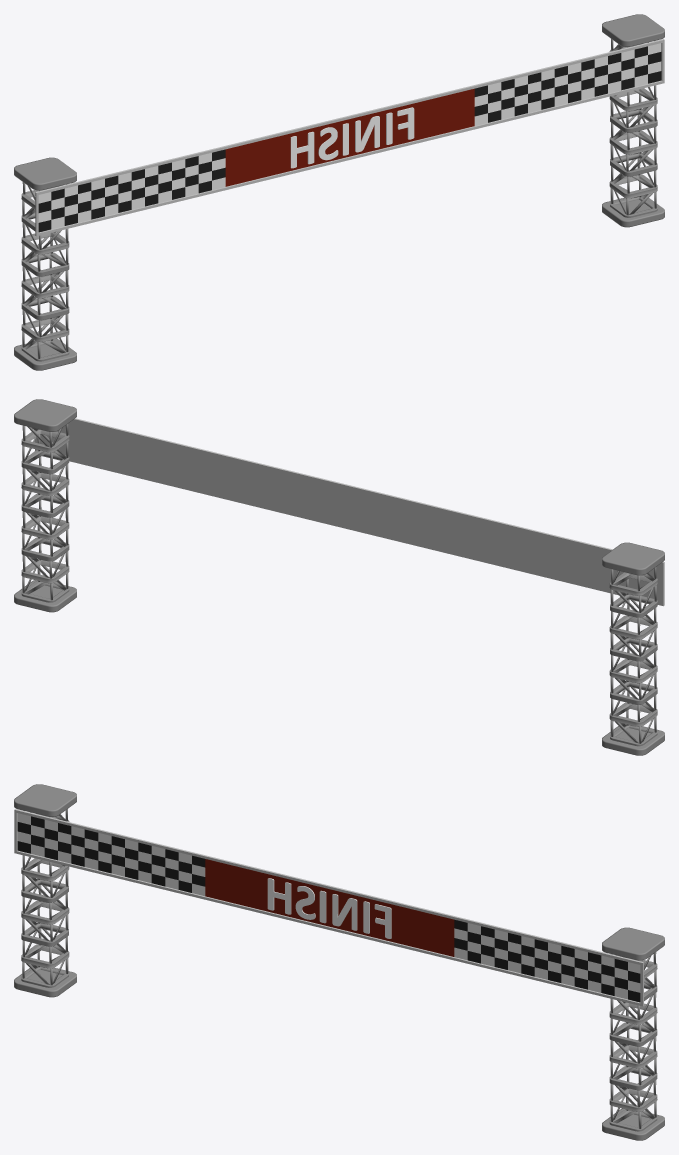
Rendered from finish_line.glb.
The picture shows the model from 3 angles, top to bottom: view 1: azimuth 30°, elevation 25°; view 2: azimuth 150°, elevation 25°; view 3: azimuth 330°, elevation 25°; orthographic projection.
Visible parts, largest first — view 1: Board.001, pole.001, matel tab, Finish, matel tab bottom; view 2: Board.001, pole.001, matel tab, matel tab bottom; view 3: Board.001, pole.001, matel tab, Finish, matel tab bottom.
Part boxes in pixels (left/top/right/bottom): Board.001: left=35, top=39, right=664, bottom=236; pole.001: left=21, top=39, right=657, bottom=361; matel tab: left=14, top=14, right=664, bottom=190; Finish: left=290, top=107, right=414, bottom=168; matel tab bottom: left=14, top=195, right=664, bottom=370; Board.001: left=35, top=418, right=664, bottom=606; pole.001: left=21, top=424, right=657, bottom=746; matel tab: left=14, top=399, right=664, bottom=575; matel tab bottom: left=14, top=580, right=664, bottom=755; Board.001: left=14, top=809, right=643, bottom=1006; pole.001: left=21, top=809, right=657, bottom=1131; matel tab: left=14, top=784, right=664, bottom=960; Finish: left=267, top=878, right=391, bottom=938; matel tab bottom: left=14, top=965, right=664, bottom=1140.
Bounding box in the file's own units: 15.16 × 4.28 × 1.05.
Materials: 3 (1 with a texture image).
